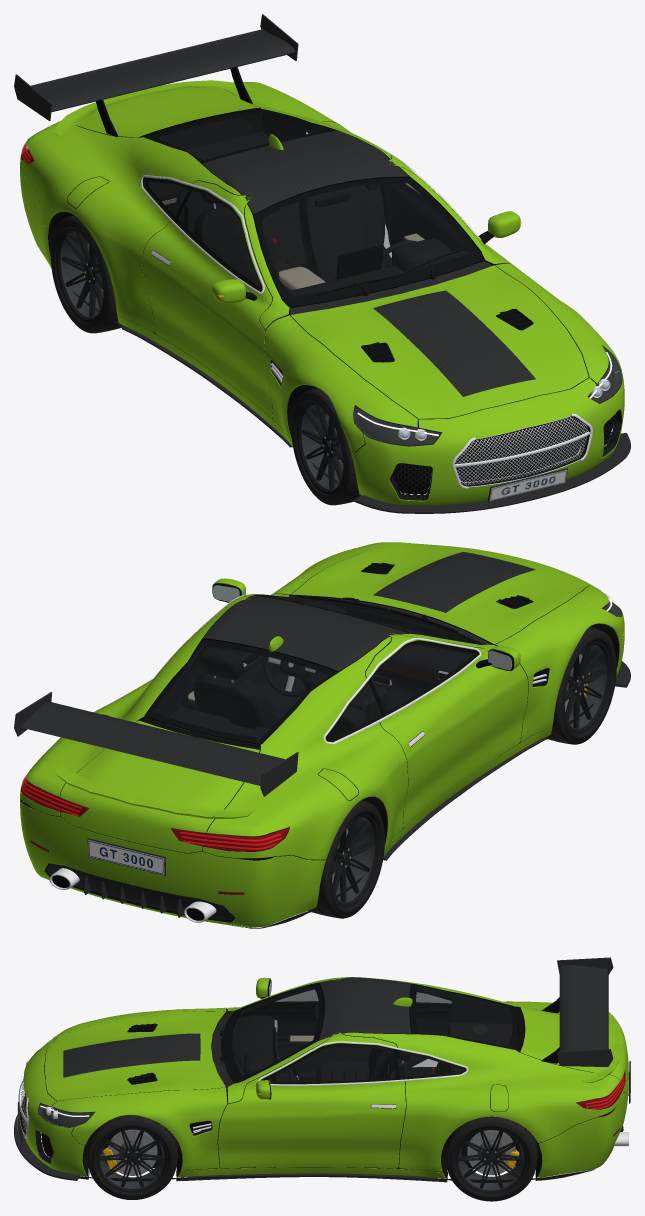
Rendered from front-engine-track-supercar.glb.
3 views of the same model, one above another, from view 1: azimuth 30°, elevation 25°; view 2: azimuth 150°, elevation 25°; view 3: azimuth 270°, elevation 25° (orthographic). The views are drawn at different scales.
Parts seen in each view (by area): view 1: Body, Wheel_RR, Wheel_FR; view 2: Body, Wheel_RR, Wheel_FR, Steering_Wheel; view 3: Body, Wheel_RL, Wheel_FL.
Part boxes in pixels (<box>): Body: <box>14,14,630,513</box>; Wheel_RR: <box>50,215,124,333</box>; Wheel_FR: <box>291,388,361,505</box>; Body: <box>14,542,630,928</box>; Wheel_RR: <box>308,800,384,918</box>; Wheel_FR: <box>545,627,616,744</box>; Steering_Wheel: <box>263,656,320,697</box>; Body: <box>14,957,630,1182</box>; Wheel_RL: <box>445,1116,537,1201</box>; Wheel_FL: <box>87,1115,177,1199</box>.
Size of the model in its own units: 2.08 by 1.33 by 4.81.
61 materials, 15 textured.
